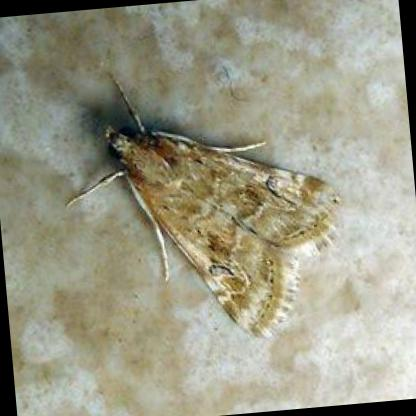Hellula undalis: (57, 60, 353, 343)
